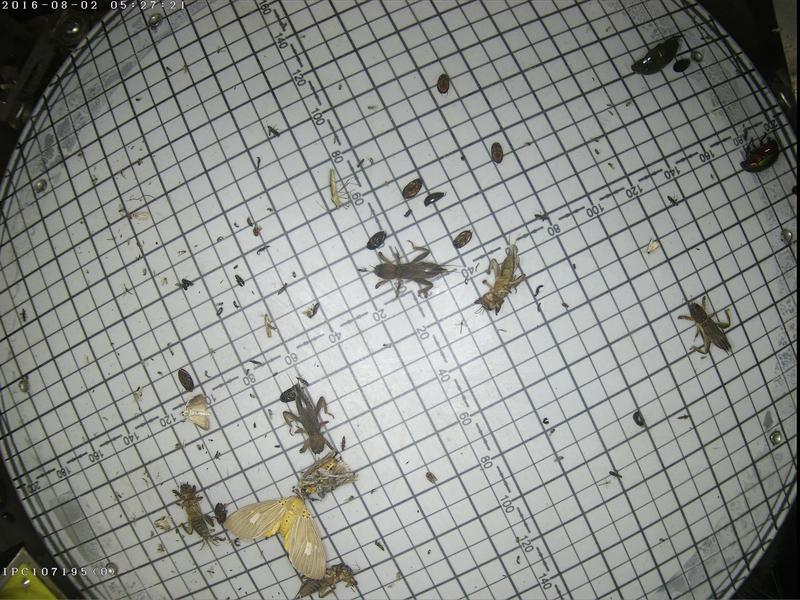Gryllotalpa orientalis: (371, 239, 446, 296), (473, 241, 527, 319), (677, 292, 734, 360), (281, 387, 337, 454), (171, 479, 215, 543), (288, 560, 359, 599)
Meadow borer: (178, 391, 212, 433)
